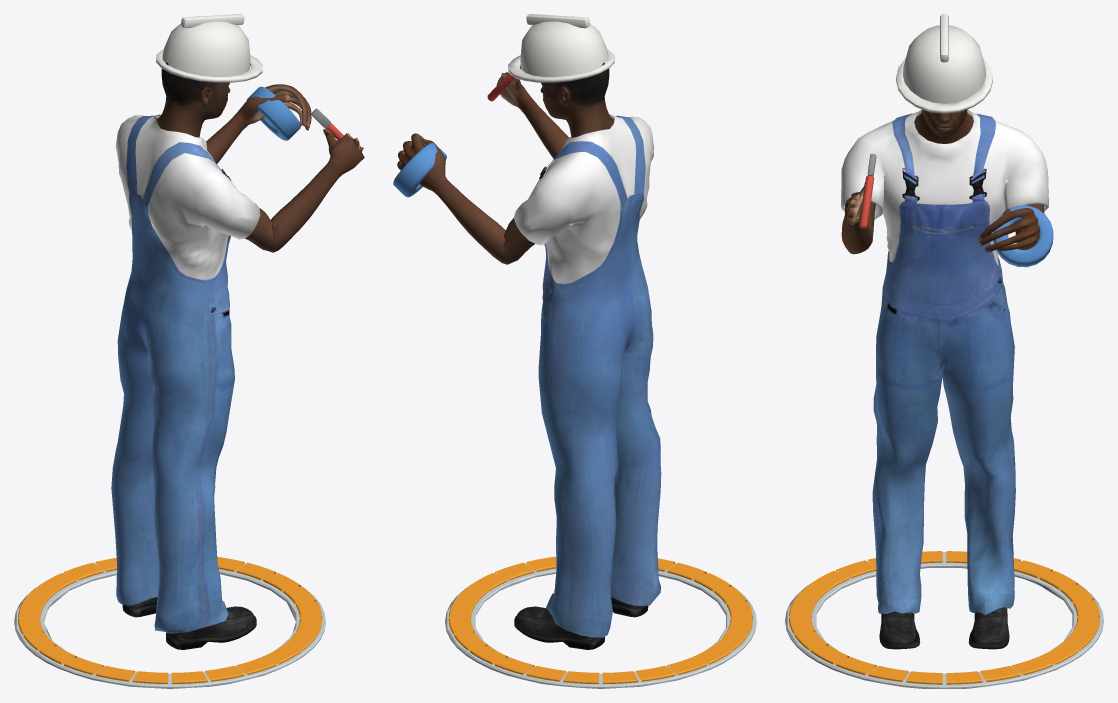
The model's file is MDO-INS-001_lod1.glb.
The picture shows the model from 3 angles, left to right: view 1: azimuth 30°, elevation 25°; view 2: azimuth 150°, elevation 25°; view 3: azimuth 270°, elevation 25°; orthographic projection. The views are drawn at different scales.
Parts seen in each view (by area): view 1: MDO-INS-001_pessoa_male_worksuit01, MDO-INS-001_pessoa, MDO-INS-001_capacete, MDO-INS-001_anel_fundo, MDO-INS-001_pessoa_shoes04, MDO-INS-001_ferE_rolo_fio, MDO-INS-001_capacete_aba, MDO-INS-001_capacete_friso; view 2: MDO-INS-001_pessoa_male_worksuit01, MDO-INS-001_pessoa, MDO-INS-001_capacete, MDO-INS-001_anel_fundo, MDO-INS-001_pessoa_shoes04, MDO-INS-001_ferE_rolo_fio, MDO-INS-001_capacete_aba, MDO-INS-001_capacete_friso; view 3: MDO-INS-001_pessoa_male_worksuit01, MDO-INS-001_pessoa, MDO-INS-001_capacete, MDO-INS-001_anel_fundo, MDO-INS-001_pessoa_shoes04, MDO-INS-001_ferE_rolo_fio, MDO-INS-001_capacete_aba.
Part boxes in pixels (x1,y1,x2,y2): MDO-INS-001_pessoa_male_worksuit01: [111, 114, 260, 633]; MDO-INS-001_pessoa: [156, 62, 364, 252]; MDO-INS-001_capacete: [162, 16, 250, 76]; MDO-INS-001_anel_fundo: [14, 563, 325, 688]; MDO-INS-001_pessoa_shoes04: [122, 597, 256, 649]; MDO-INS-001_ferE_rolo_fio: [246, 86, 300, 140]; MDO-INS-001_capacete_aba: [156, 49, 262, 82]; MDO-INS-001_capacete_friso: [181, 14, 244, 28]; MDO-INS-001_pessoa_male_worksuit01: [513, 114, 661, 637]; MDO-INS-001_pessoa: [397, 62, 614, 264]; MDO-INS-001_capacete: [520, 16, 608, 76]; MDO-INS-001_anel_fundo: [445, 563, 756, 688]; MDO-INS-001_pessoa_shoes04: [514, 591, 648, 649]; MDO-INS-001_ferE_rolo_fio: [393, 143, 446, 197]; MDO-INS-001_capacete_aba: [508, 49, 614, 82]; MDO-INS-001_capacete_friso: [526, 14, 589, 28]; MDO-INS-001_pessoa_male_worksuit01: [841, 109, 1048, 614]; MDO-INS-001_pessoa: [841, 109, 1044, 254]; MDO-INS-001_capacete: [903, 25, 985, 103]; MDO-INS-001_anel_fundo: [785, 552, 1103, 688]; MDO-INS-001_pessoa_shoes04: [879, 607, 1009, 649]; MDO-INS-001_ferE_rolo_fio: [993, 205, 1053, 267]; MDO-INS-001_capacete_aba: [896, 58, 992, 113].
Bounding box in the file's own units: 0.9429 × 1.8 × 0.84.
11 materials, 5 textured.
